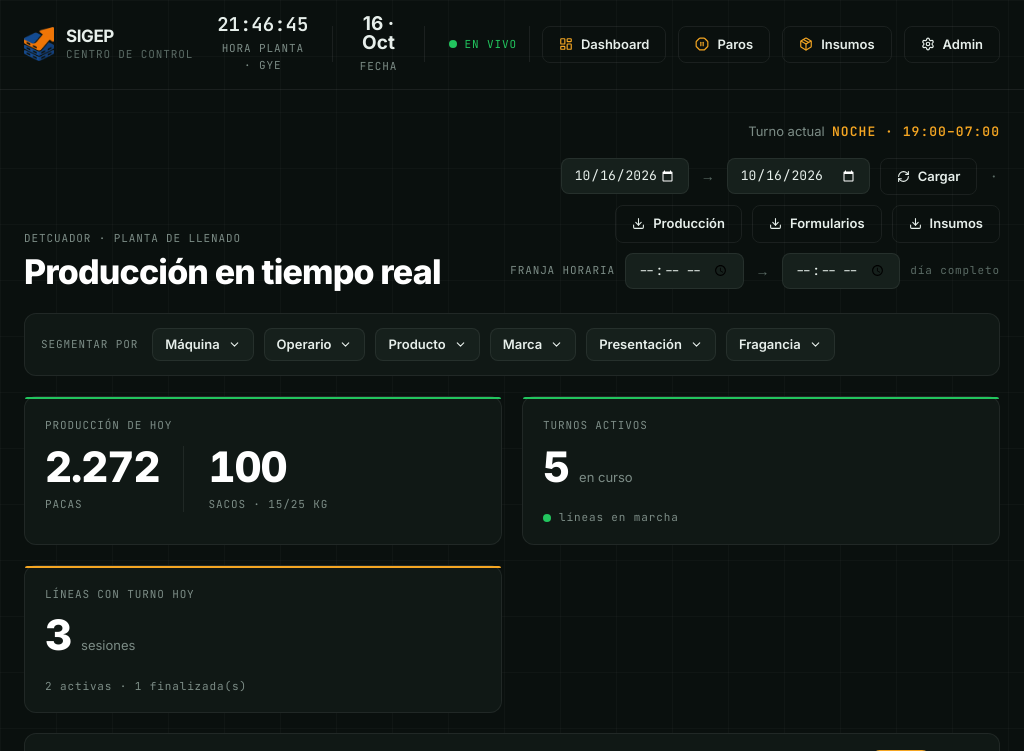
desde paros se vuelve al dashboard sin recargar, por el botón o por el logo
Check: the text "2.272" is shown, box [45,446,160,488]
Click the button "Paros". click: (724,44)
box: [678,26,770,63]
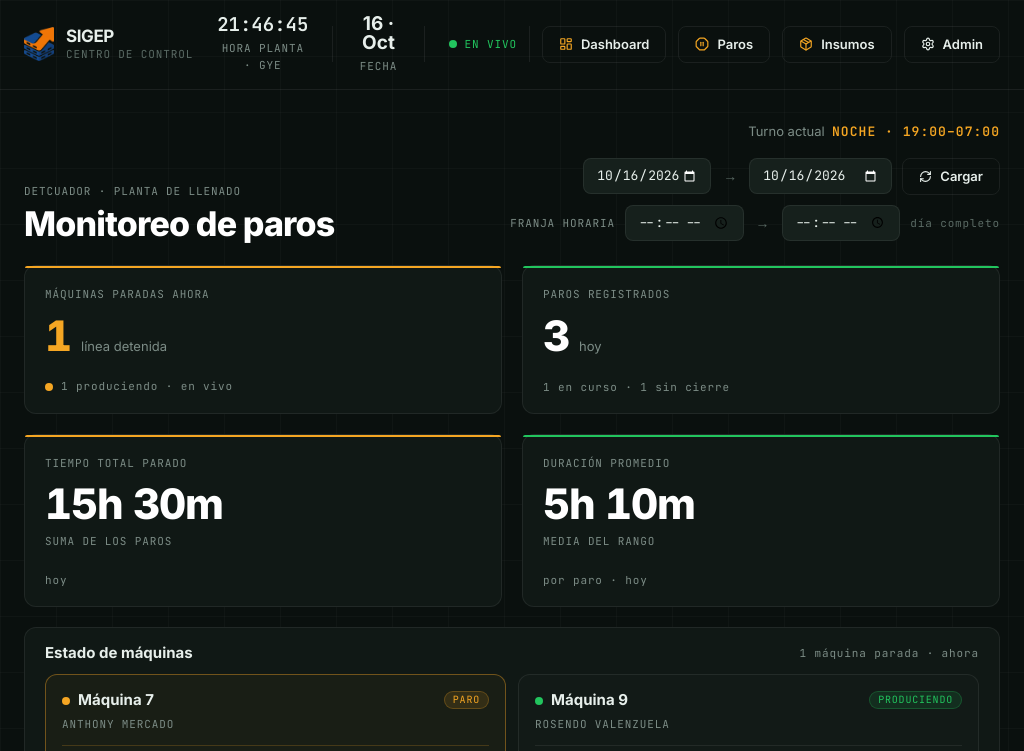
Check: the heading "Monitoreo de paros" is shown, box [24,207,334,241]
Click the button "Dashboard". click: (604,44)
box: [542,26,666,63]
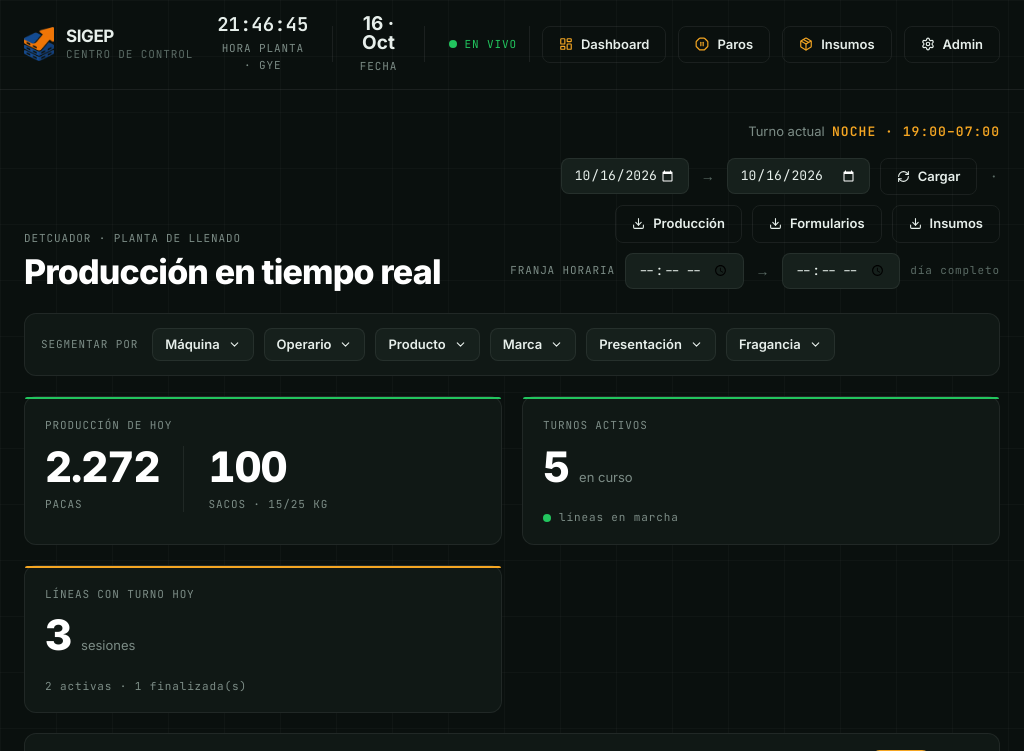
Check: the heading "Producción en tiempo real" is shown, box [24,254,441,288]
Click the button "Paros". click: (724,44)
box: [678,26,770,63]
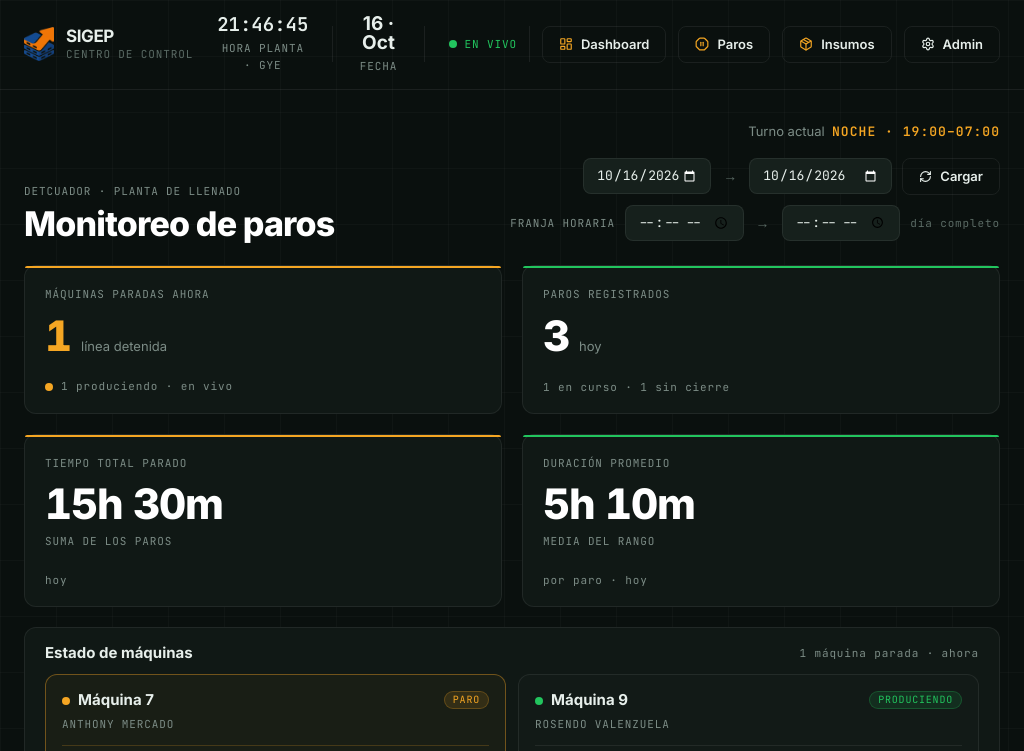
Check: the heading "Monitoreo de paros" is shown, box [24,207,334,241]
Click the button with aria-label "Ir al dashboard". click: (109,44)
box: [20,23,197,65]
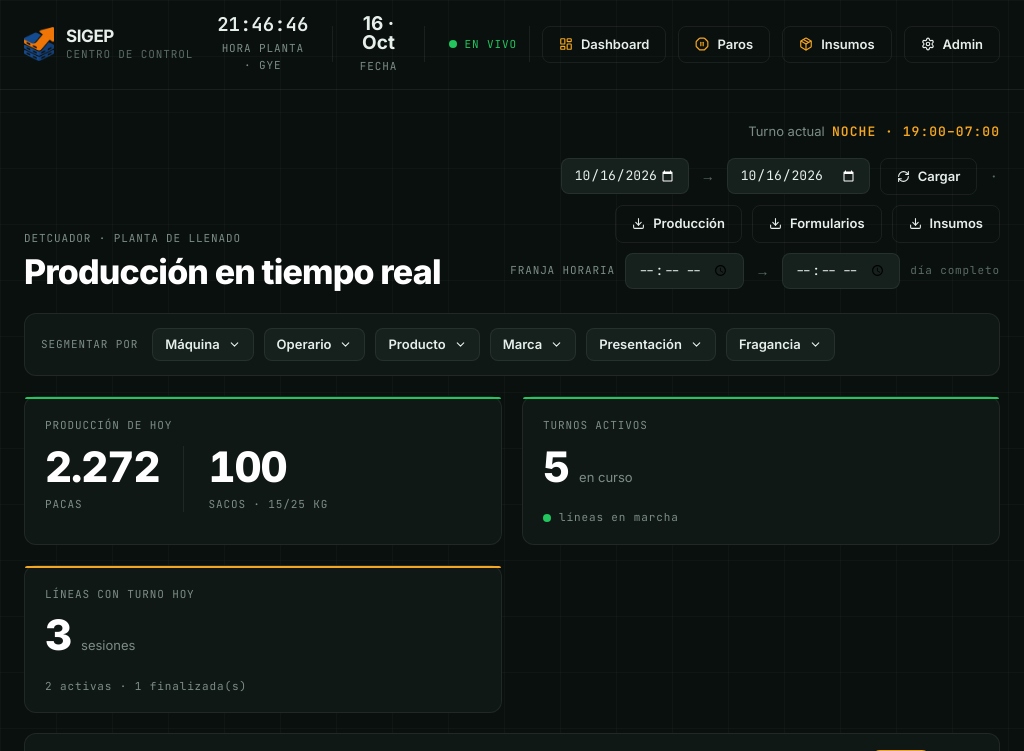
Check: the heading "Producción en tiempo real" is shown, box [24,254,441,288]
